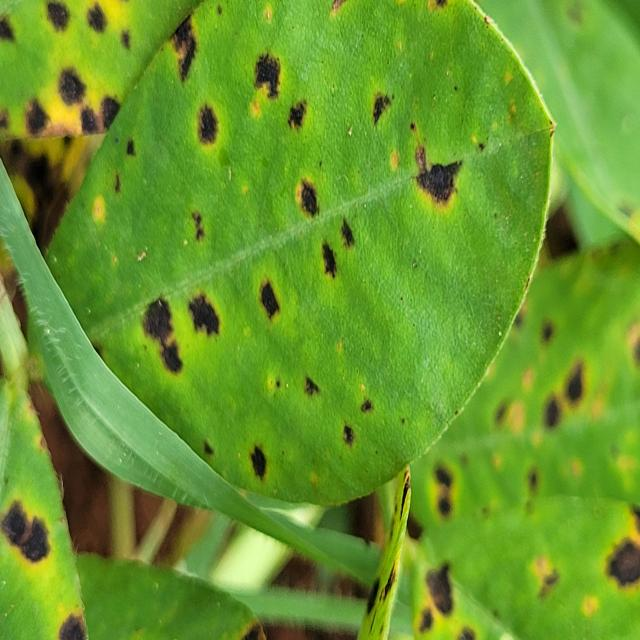Ground nut_tikka leaf spot: (27, 1, 558, 503)
